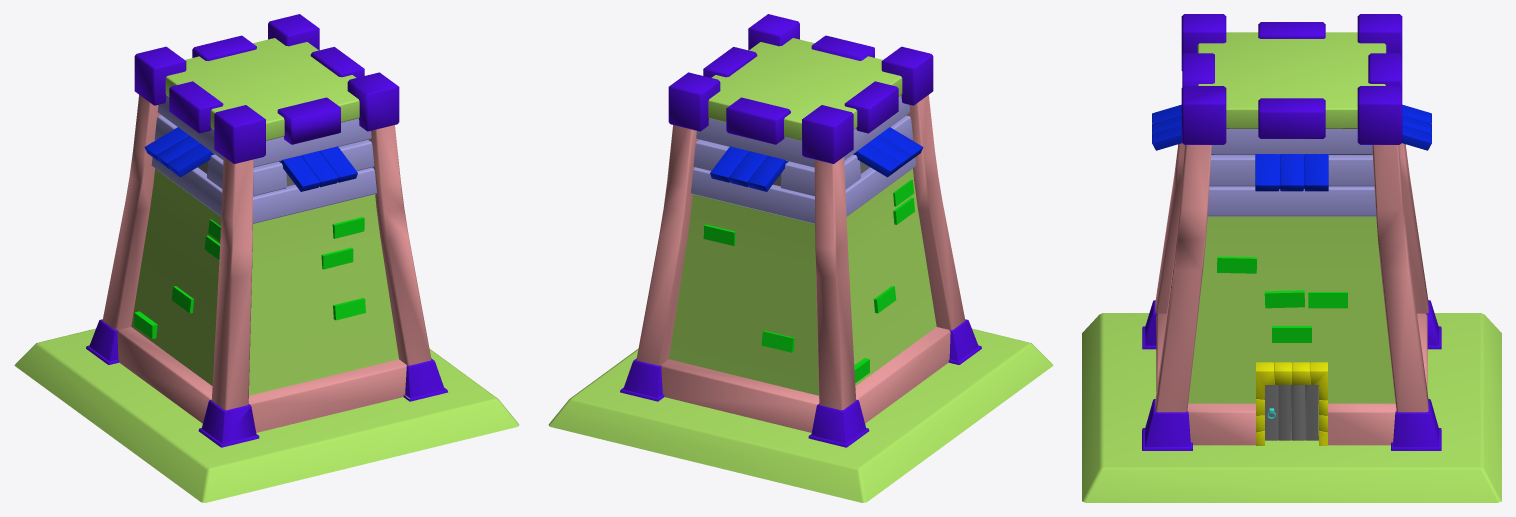
Rendered from balistaLV1.fbx.
The picture shows the model from 3 angles, left to right: view 1: azimuth 30°, elevation 25°; view 2: azimuth 150°, elevation 25°; view 3: azimuth 270°, elevation 25°; orthographic projection. The views are drawn at different scales.
Parts seen in each view (by area): view 1: Cylinder.009; view 2: Cylinder.009; view 3: Cylinder.009.
Boxes of the visible parts, bbox=[...] form: Cylinder.009: bbox=[14, 14, 519, 502]; Cylinder.009: bbox=[548, 14, 1053, 502]; Cylinder.009: bbox=[1082, 14, 1501, 502].
Bounding box in the file's own units: 173 × 169 × 179.
